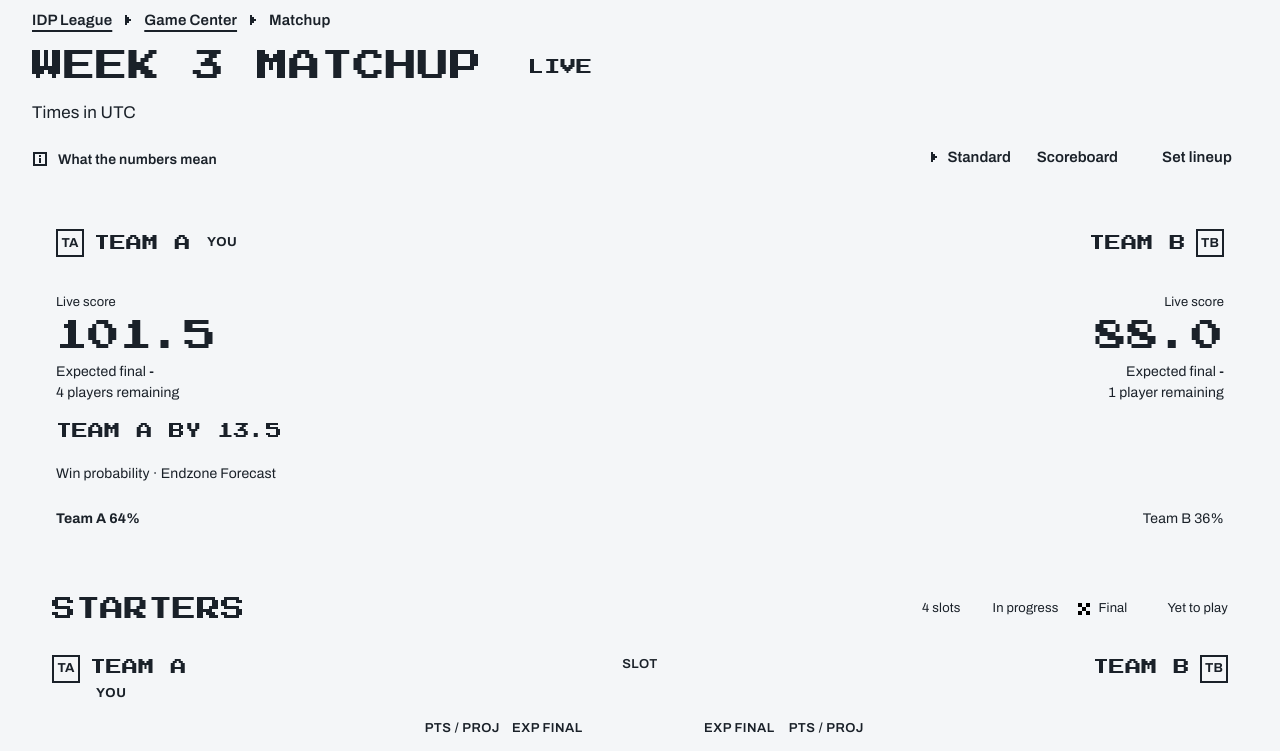
the Starters table and the retro Lineups card render the same paired rows in the same order (IDP)
The width and height of the screenshot is (1280, 751).
Click the radio button labelled "Scoreboard" at (1077, 157), box [1023,135,1132,179]
(page scrolled)
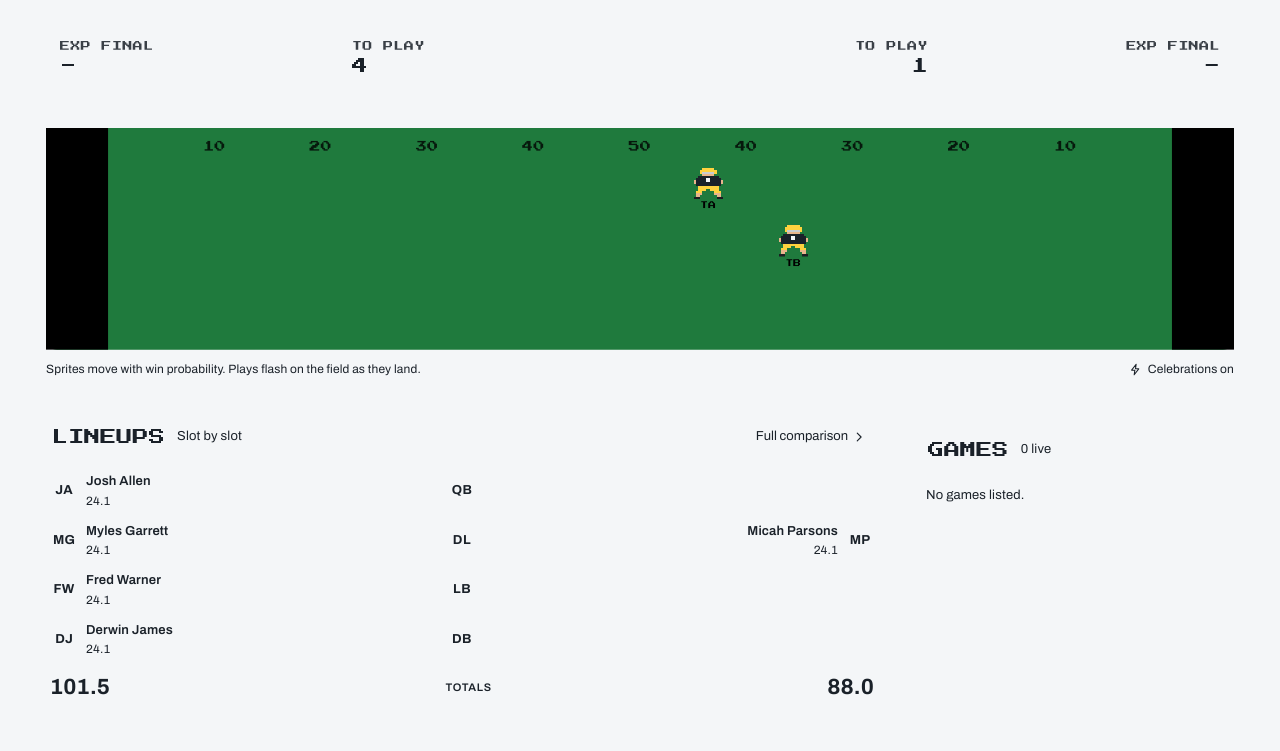
Result: the element with test id "lineups-card" is shown at [32,408,892,710]
